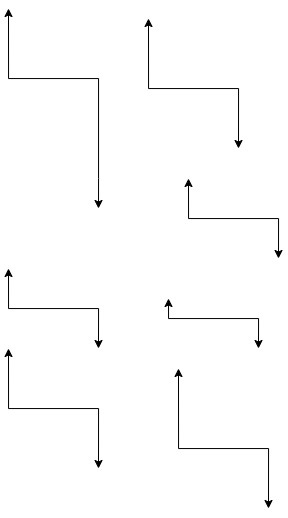bi_horizontal: (2, 7, 106, 213), (171, 366, 273, 509), (142, 15, 245, 149), (1, 349, 104, 469), (182, 177, 283, 260), (3, 265, 104, 348), (163, 296, 264, 346)
